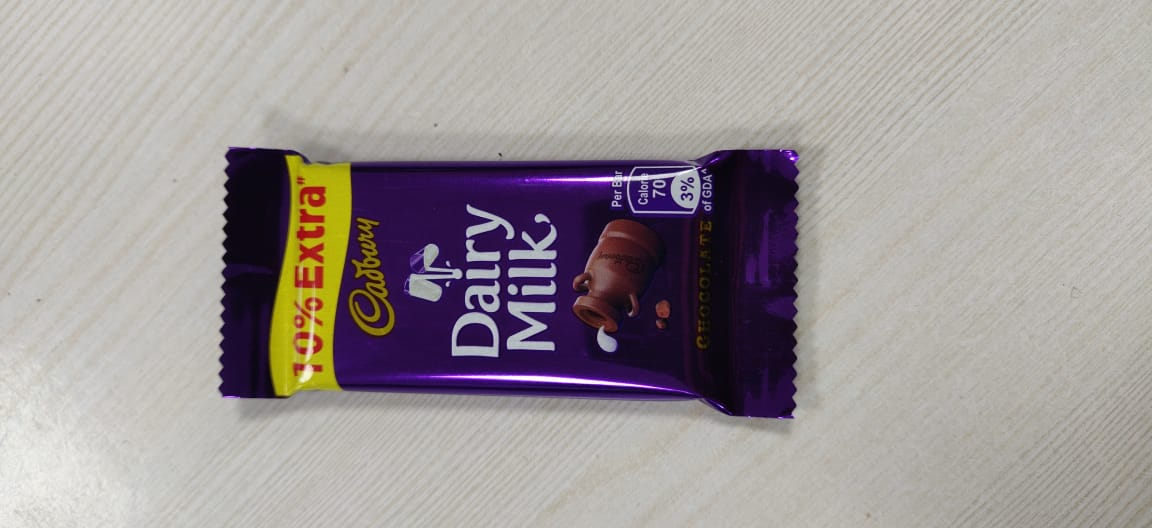dairy milk: (210, 134, 810, 432)
